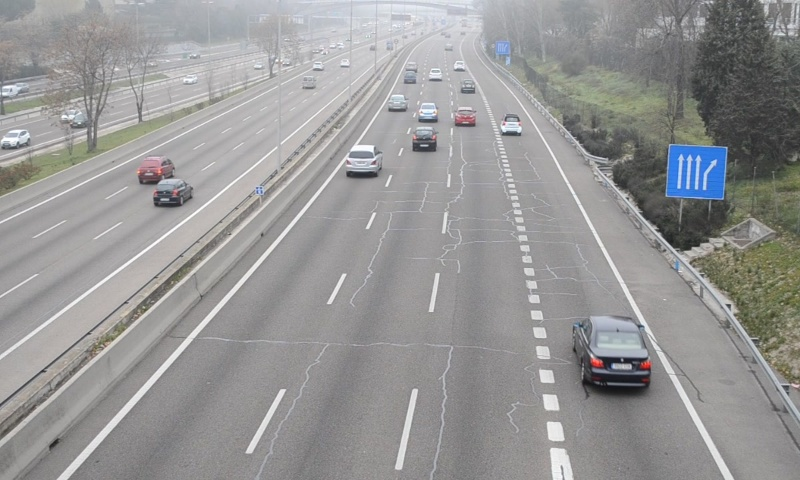car: (573, 314, 652, 388), (343, 143, 382, 174), (411, 126, 437, 149), (500, 112, 522, 137), (454, 106, 477, 128), (418, 101, 438, 122), (387, 94, 408, 112), (459, 78, 475, 94)
